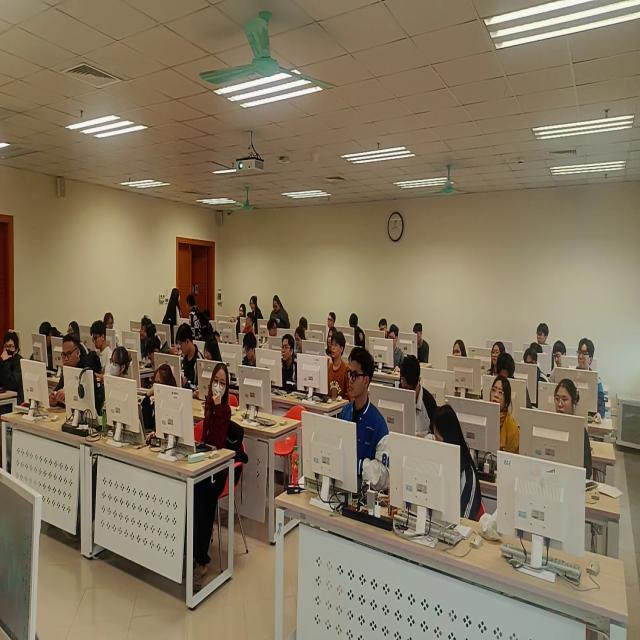raise_head: (336, 345, 392, 501), (197, 358, 237, 529), (548, 379, 594, 484), (55, 330, 93, 430), (98, 336, 135, 435), (573, 331, 608, 426), (1, 320, 30, 431), (482, 375, 521, 455), (322, 328, 355, 409), (278, 333, 300, 395), (449, 332, 469, 389), (489, 337, 510, 376), (234, 293, 249, 343), (535, 315, 554, 352), (326, 304, 340, 340), (325, 322, 338, 357), (244, 310, 259, 336)
stand: (162, 282, 183, 371), (186, 281, 212, 349), (269, 287, 293, 342), (250, 285, 265, 341)
using_computer: (424, 400, 487, 532), (400, 352, 442, 453), (142, 353, 181, 446), (176, 316, 206, 396), (34, 316, 62, 374), (525, 341, 550, 398), (549, 331, 574, 387), (240, 326, 263, 385), (498, 350, 524, 400), (65, 318, 89, 371), (385, 323, 406, 382), (347, 303, 370, 353), (411, 317, 432, 371), (204, 333, 225, 375), (378, 307, 392, 352), (295, 325, 310, 361), (531, 334, 548, 355), (300, 313, 311, 336)
